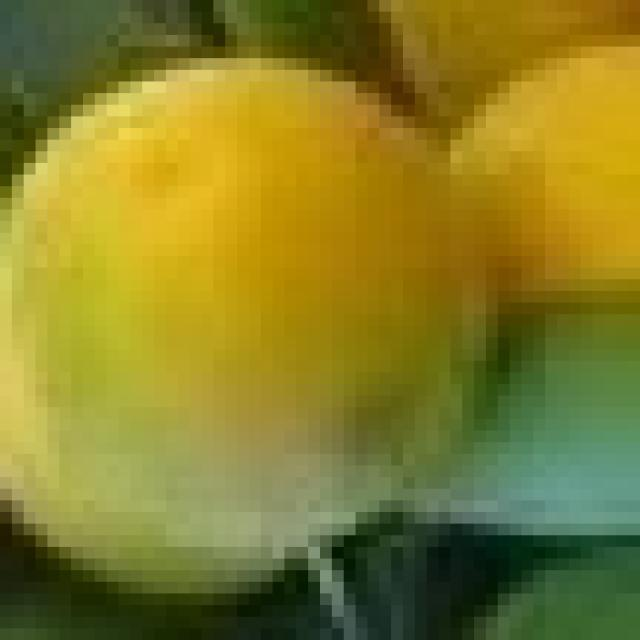Mango: (445, 38, 640, 322)
Orange: (13, 70, 504, 610)
